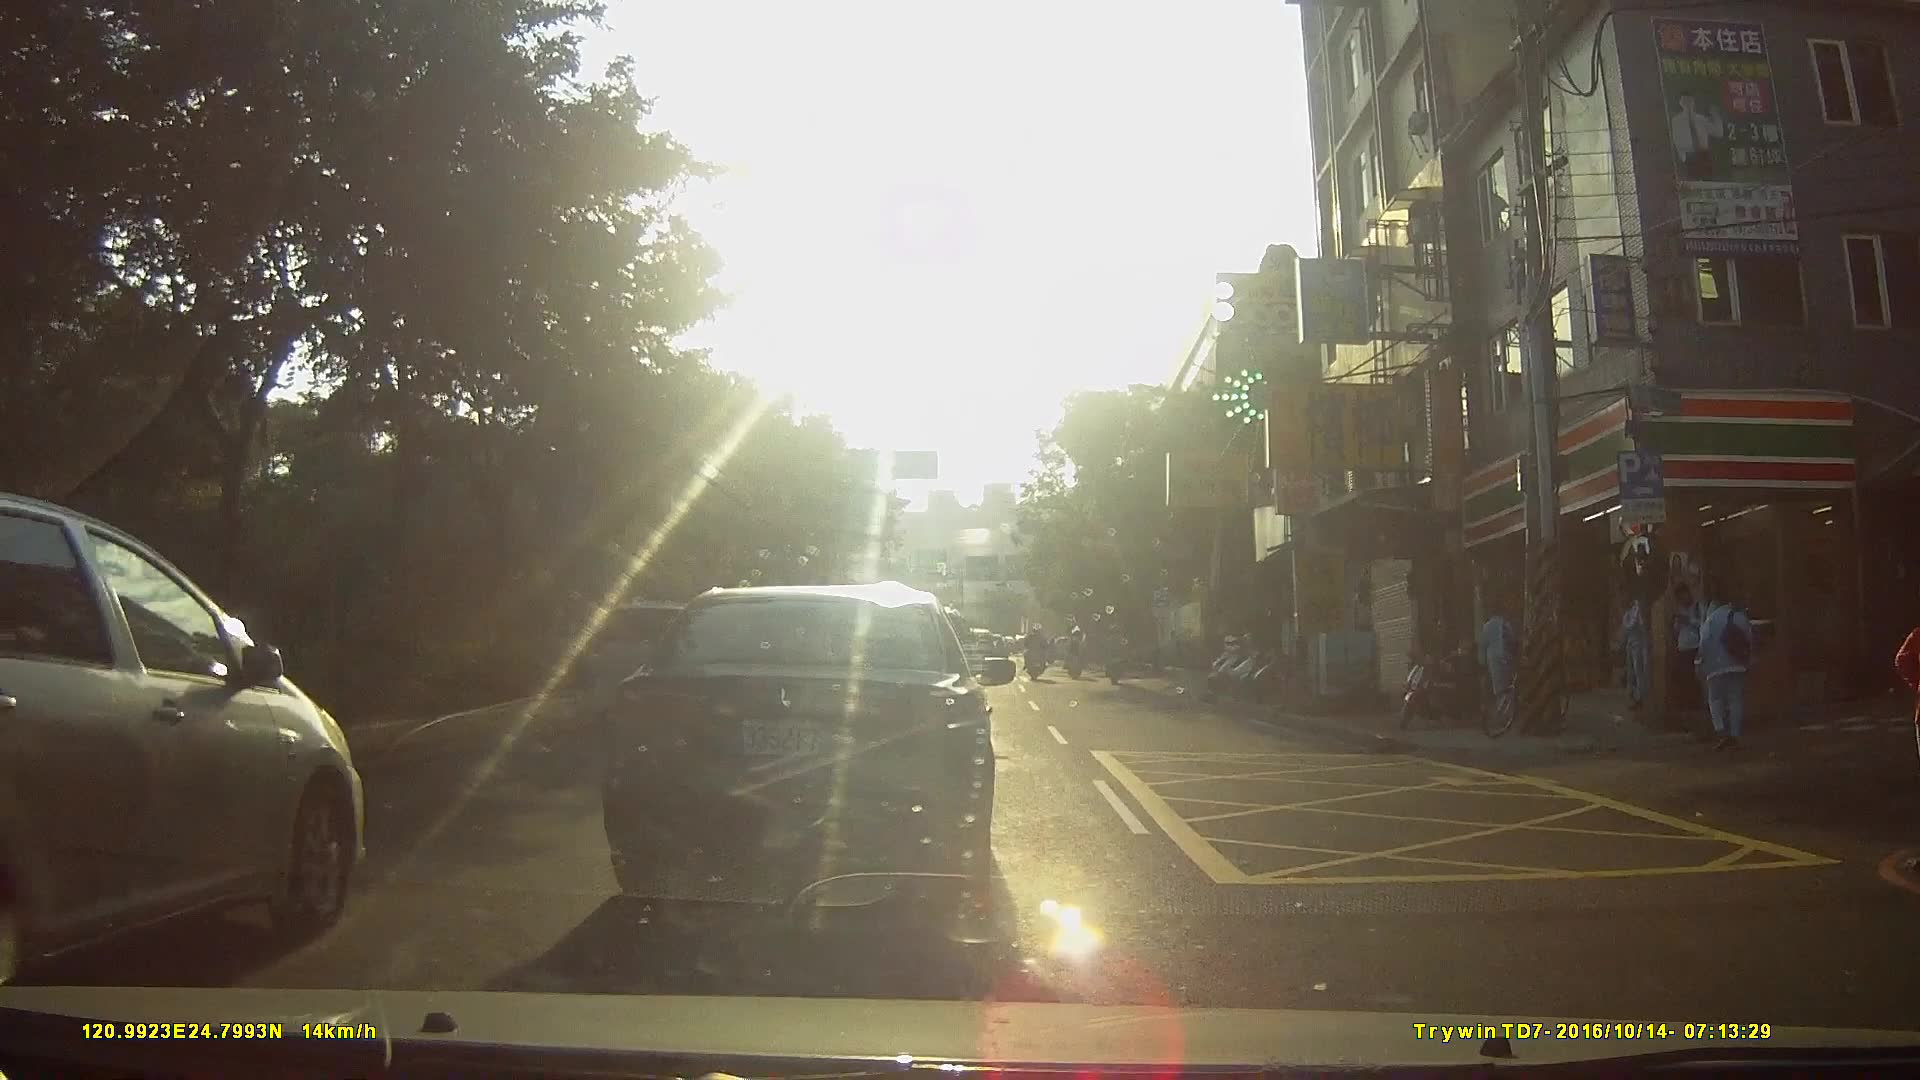pedestrian: (1693, 585, 1764, 752), (1473, 601, 1527, 716), (1899, 567, 1920, 854), (1676, 571, 1712, 710), (1618, 583, 1655, 708)
rider: (1022, 623, 1053, 681), (1063, 622, 1092, 683), (1105, 622, 1130, 688)
vehicle: (1, 496, 426, 1000), (584, 575, 1033, 925)
